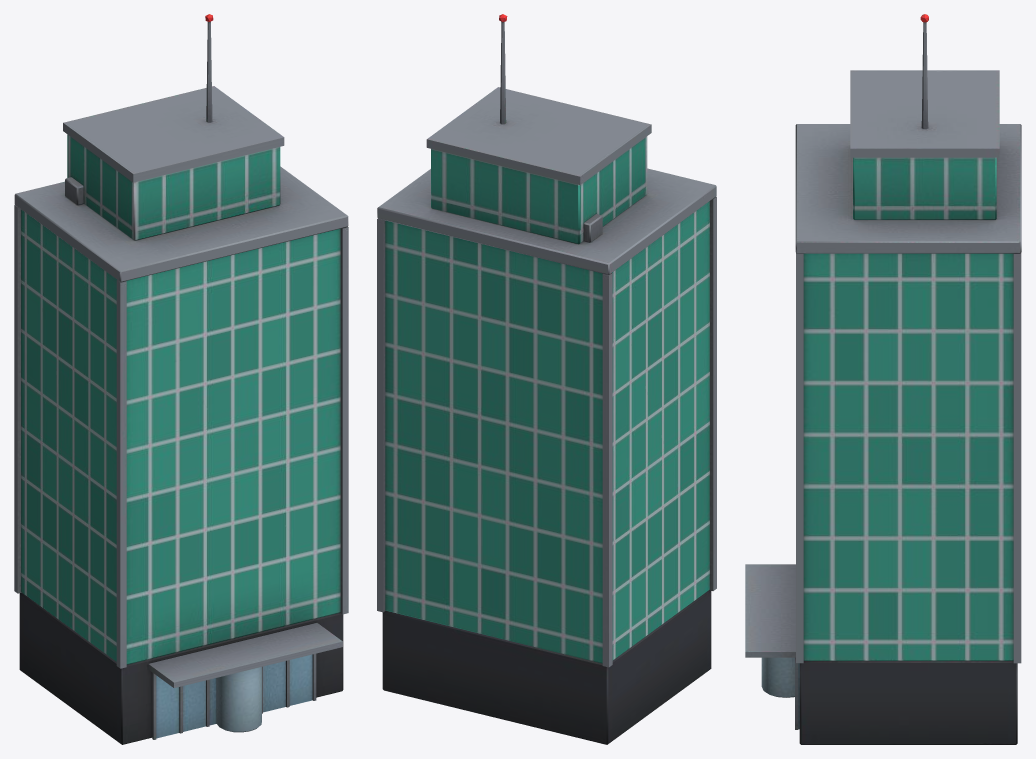
Rendered from oficina_verde.glb.
3 renders of one model, left to right at view 1: azimuth 30°, elevation 25°; view 2: azimuth 150°, elevation 25°; view 3: azimuth 270°, elevation 25°, orthographic. The views are drawn at different scales.
Visible parts, largest first — view 1: oficina_verde; view 2: oficina_verde; view 3: oficina_verde.
Boxes of the visible parts, x1,y1,x2,y2 form: oficina_verde: (14, 14, 348, 744); oficina_verde: (377, 14, 716, 744); oficina_verde: (745, 14, 1021, 744).
Bounding box in the file's own units: 5.15 × 14.04 × 5.07.
Materials: 1 (1 with a texture image).
